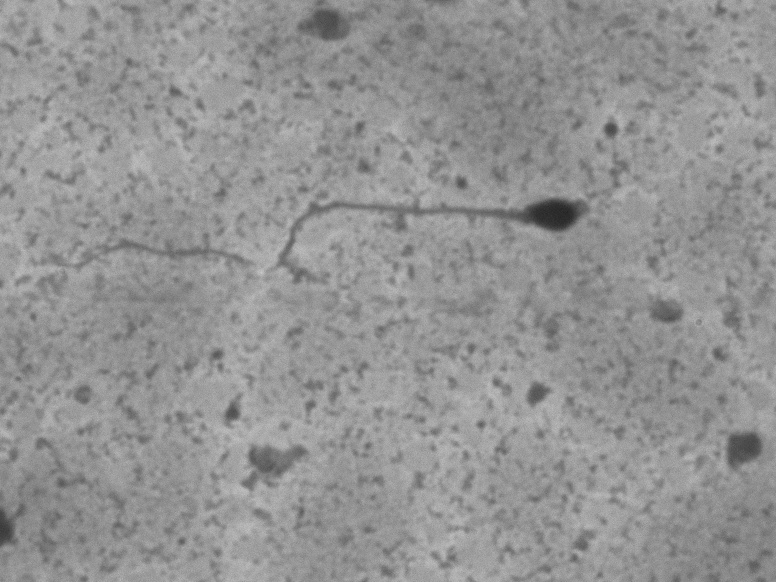Abnormal: (36, 157, 650, 300)
